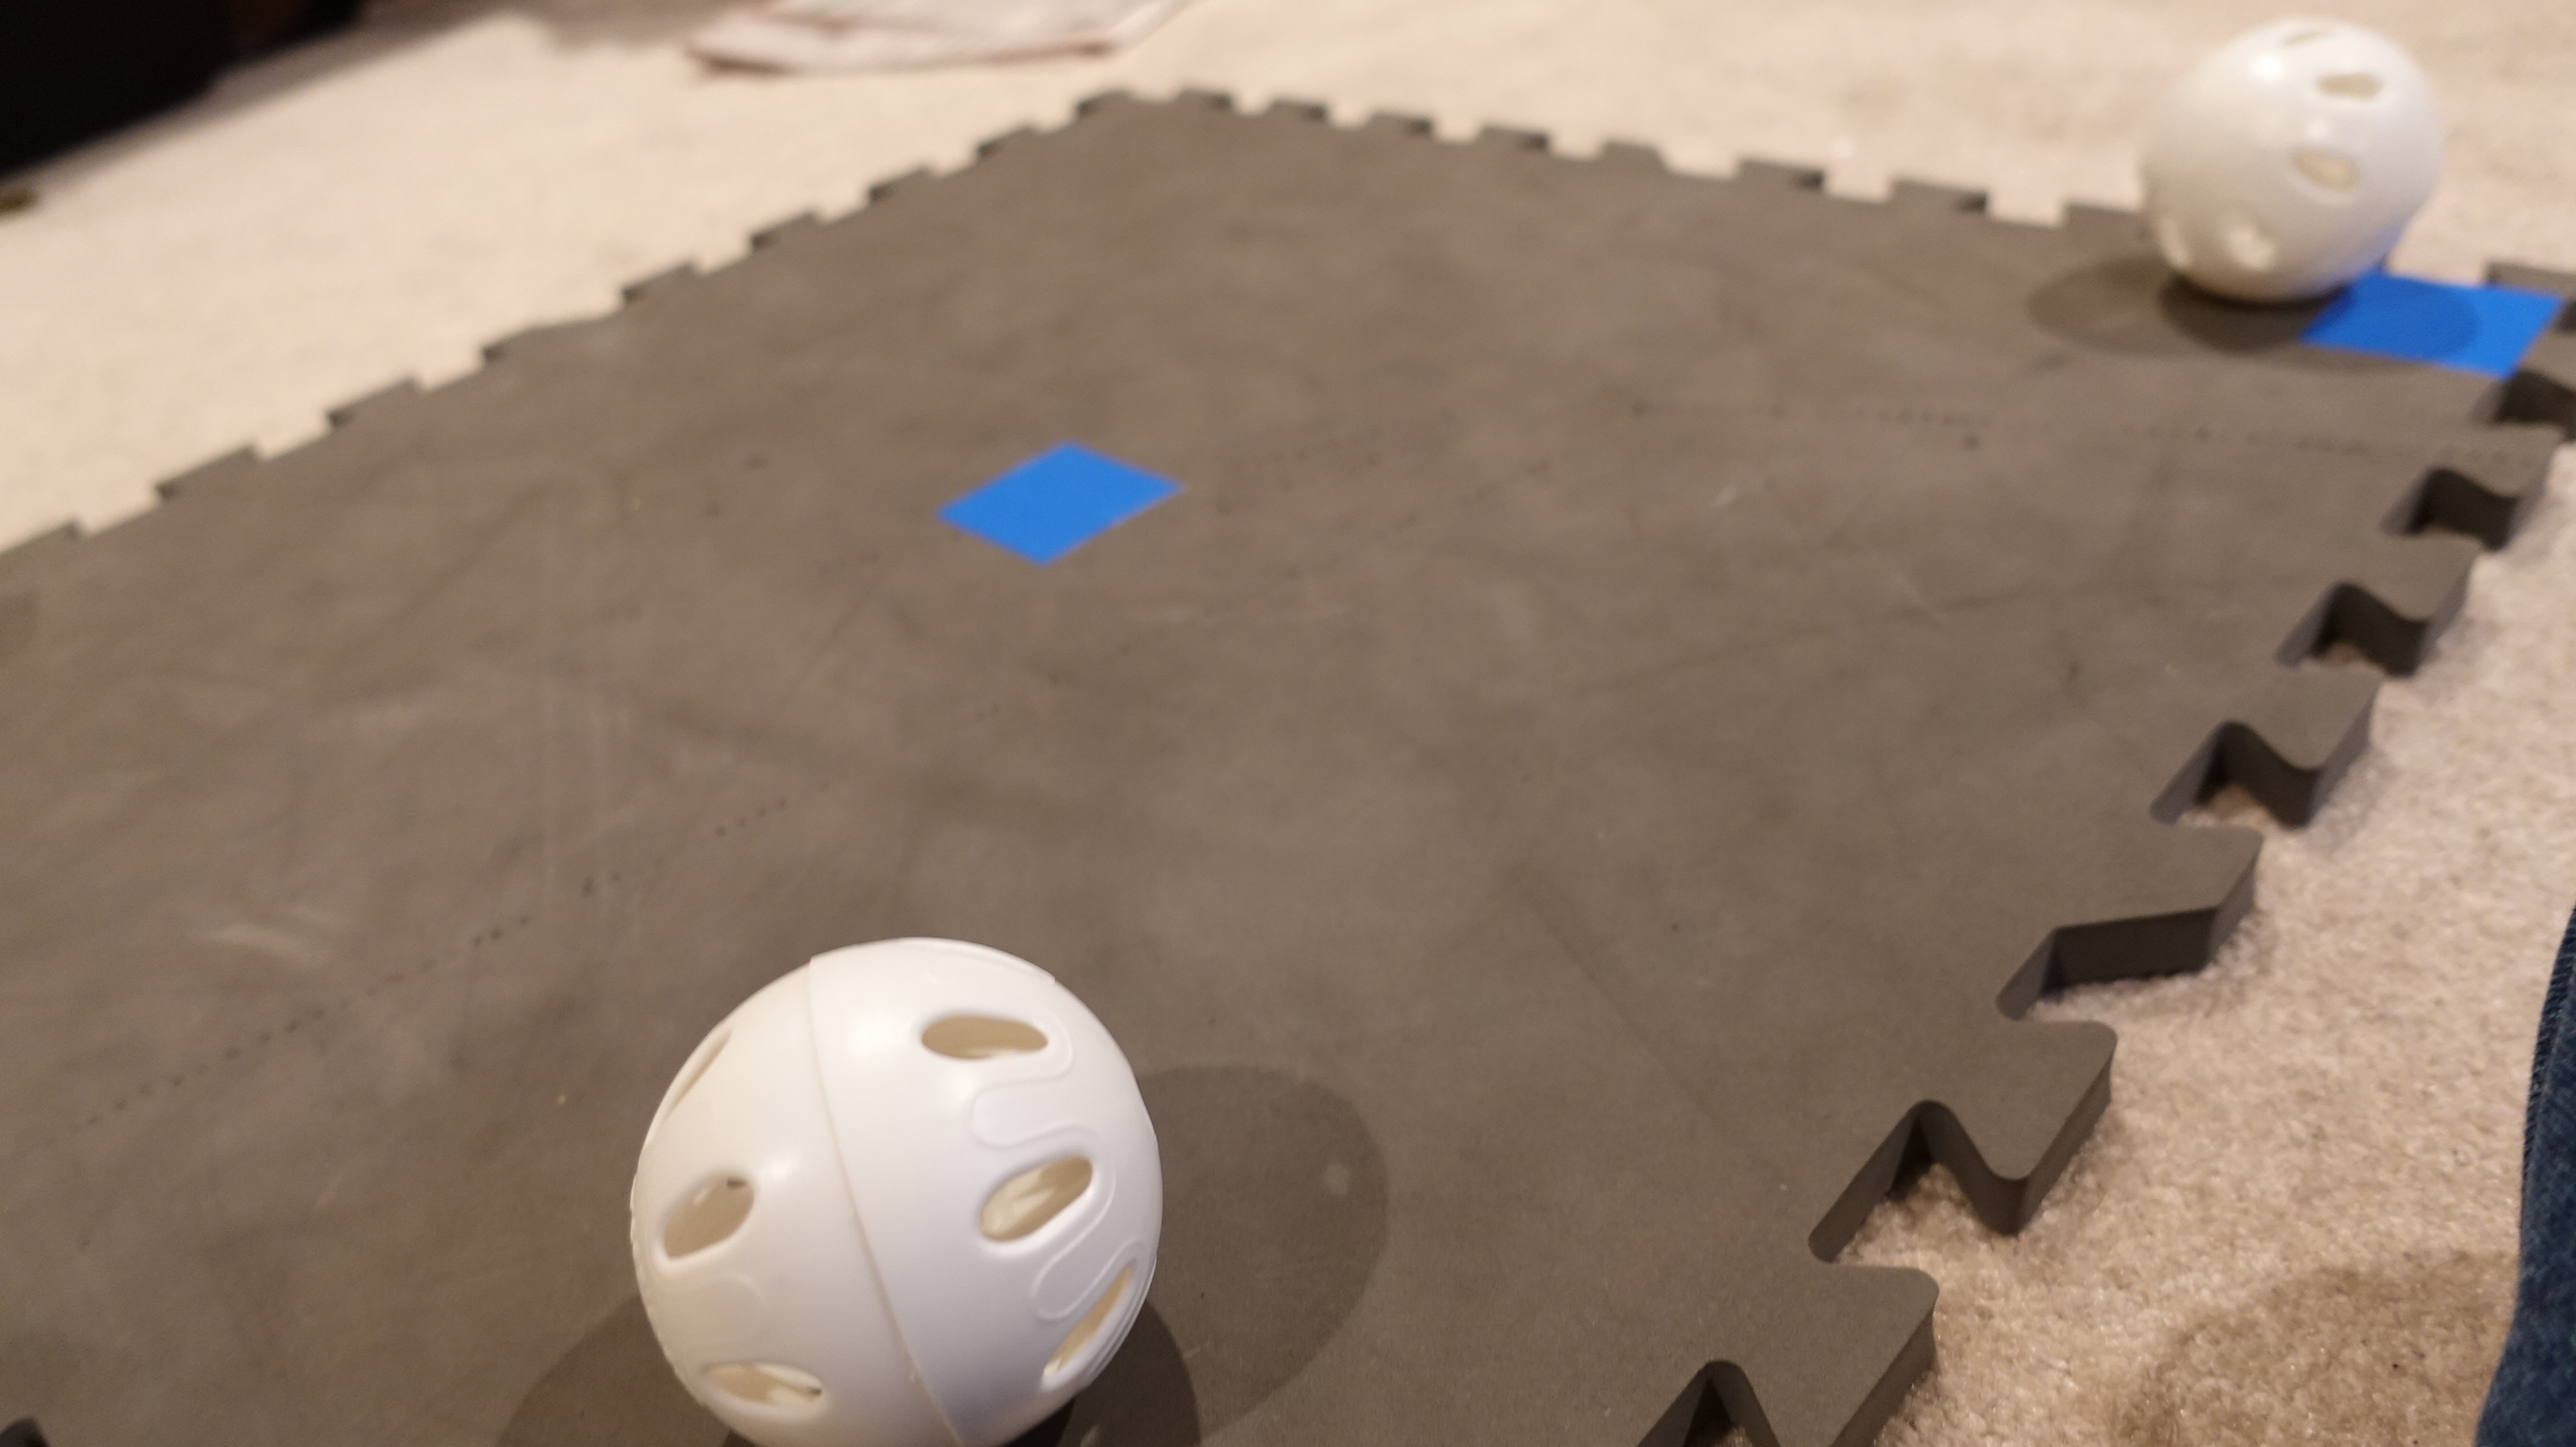silver: (610, 909, 1189, 1447), (2118, 16, 2449, 317)
